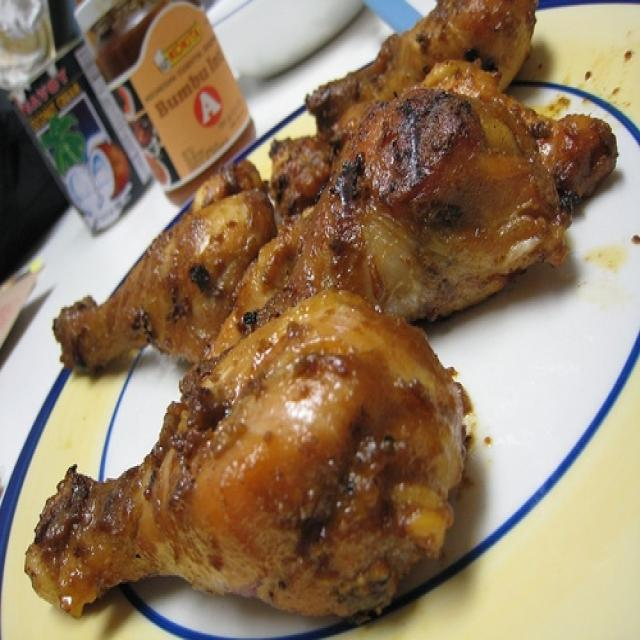鸡肉料理 含炸鸡: (18, 10, 630, 628)
